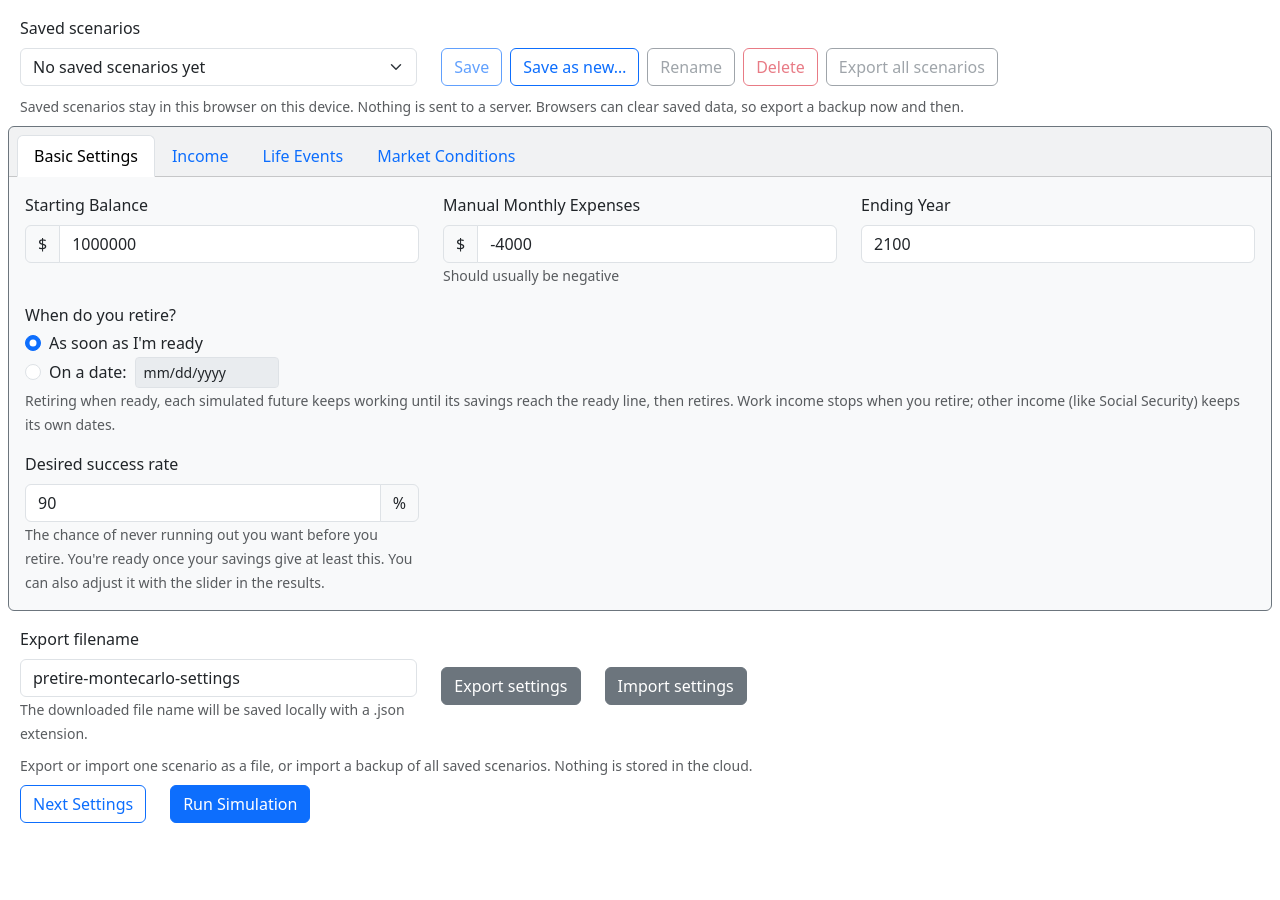
Scenario: MonteCarloForm fixed-date plans › can't run without a retirement date
Check: the button "Run Simulation" is enabled, box [170, 785, 310, 823]
Click the radio button labelled "On a date:".
click(33, 372)  # box [25, 364, 41, 380]
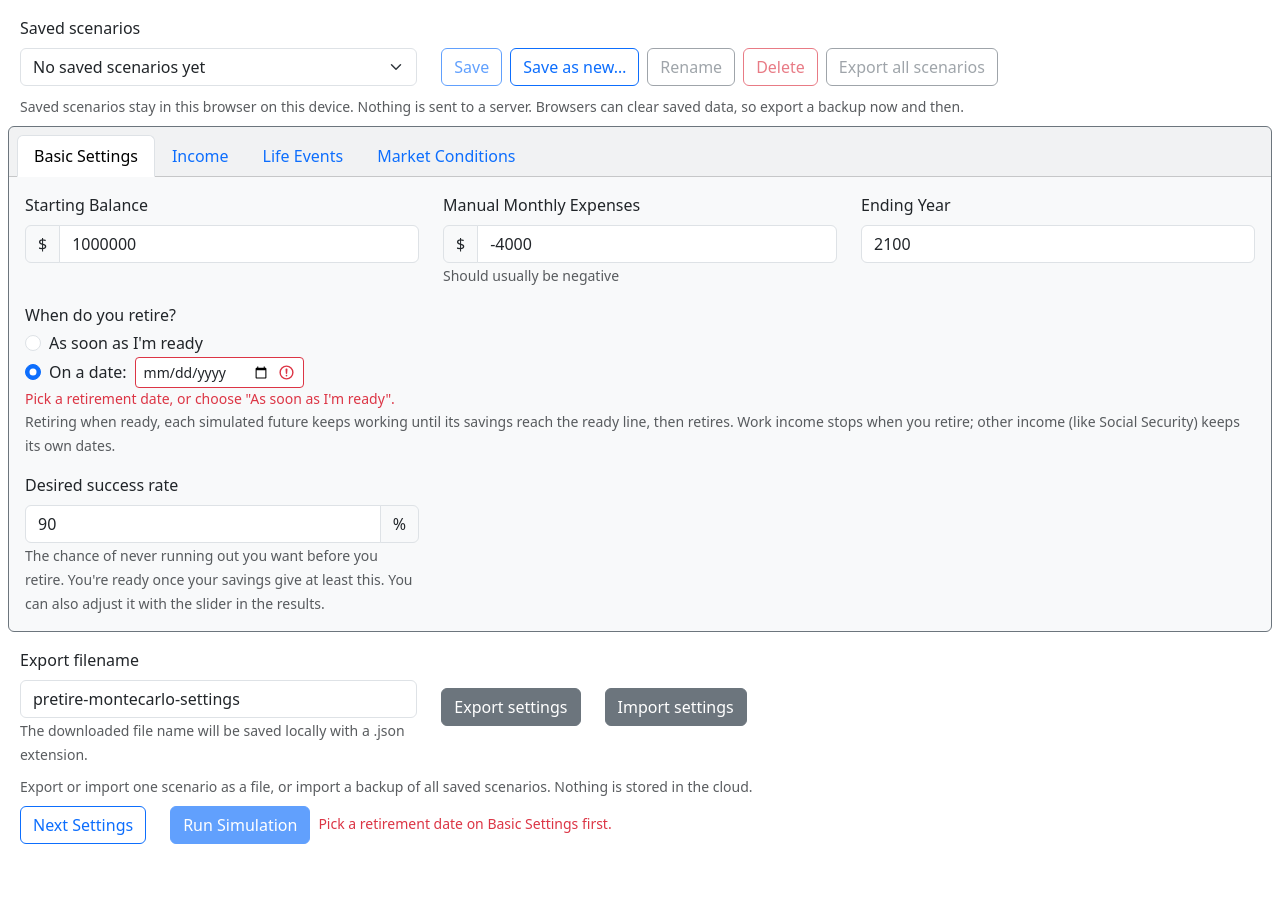
Check: the button "Run Simulation" is disabled, box [170, 806, 310, 844]
Check: the text "Pick a retirement date, or choose \"As soon as I'm ready\"." is shown, box [25, 389, 395, 408]
Type "2041-03-01" into the date field named "Retirement date".
click(219, 372); type("2041-03-01")  # box [135, 357, 304, 388]
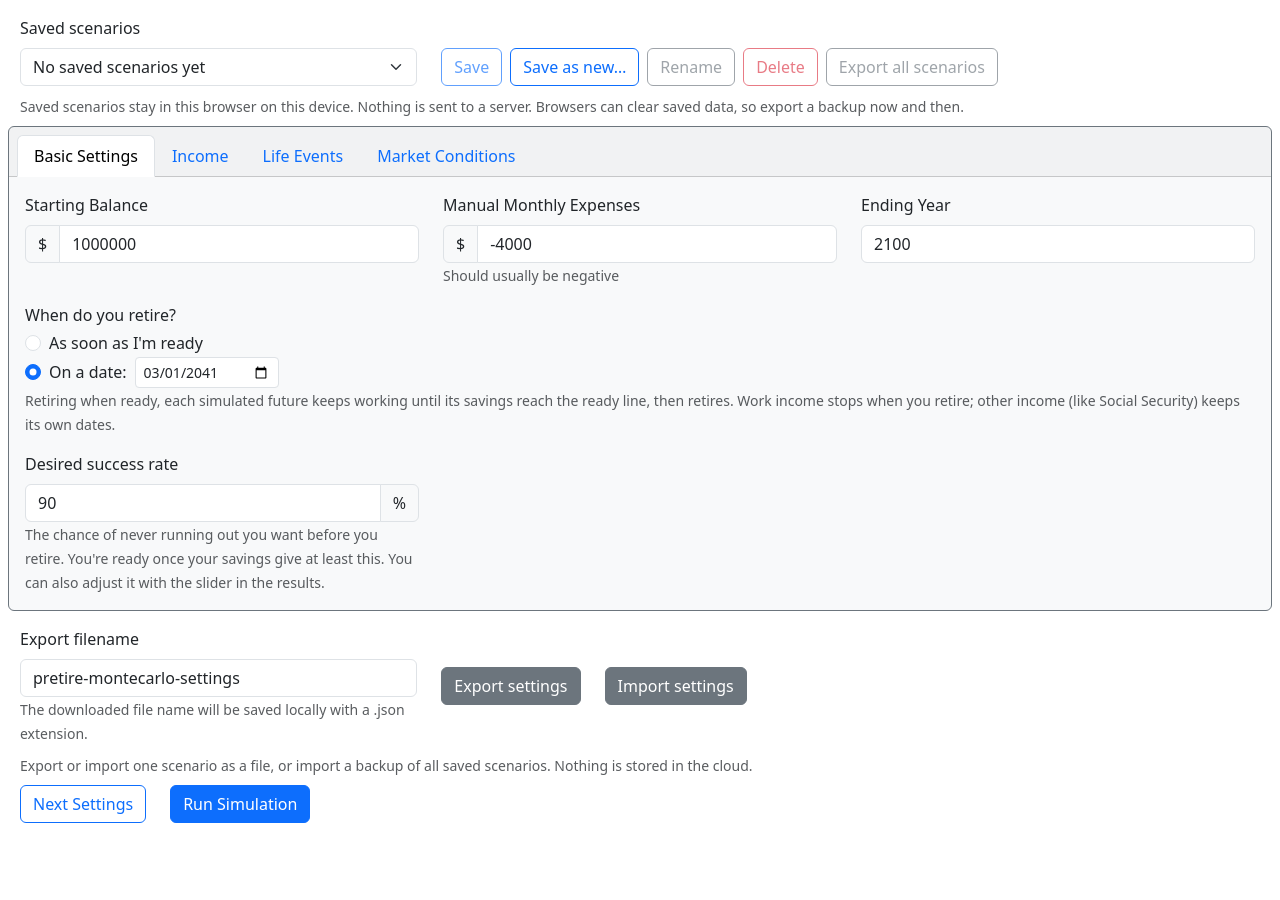
Check: the button "Run Simulation" is enabled, box [170, 785, 310, 823]
